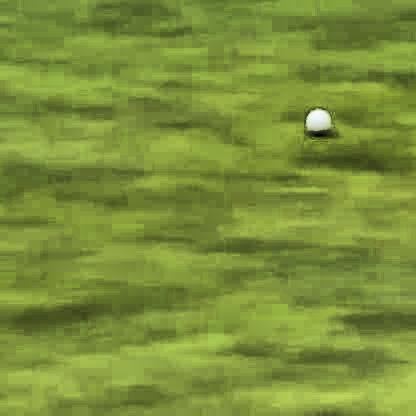golfball: (301, 104, 326, 134)
